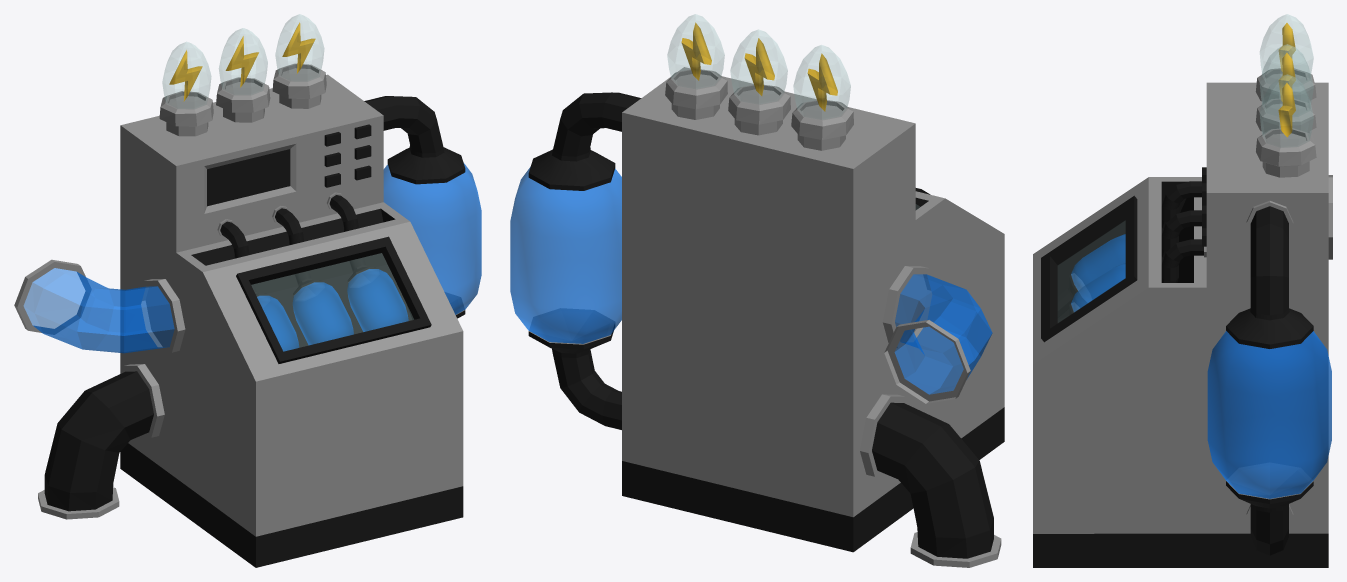
Rendered from obj_machine_water.FBX.
The picture shows the model from 3 angles, left to right: view 1: azimuth 30°, elevation 25°; view 2: azimuth 150°, elevation 25°; view 3: azimuth 270°, elevation 25°; orthographic projection. The views are drawn at different scales.
Visible parts, largest first — view 1: obj_machine_water; view 2: obj_machine_water; view 3: obj_machine_water.
Part boxes in pixels (x1,y1,x2,y2): obj_machine_water: (14, 14, 481, 567); obj_machine_water: (510, 14, 1004, 567); obj_machine_water: (1033, 14, 1332, 567).
Size of the model in its own units: 14.23 by 13.5 by 7.83.
